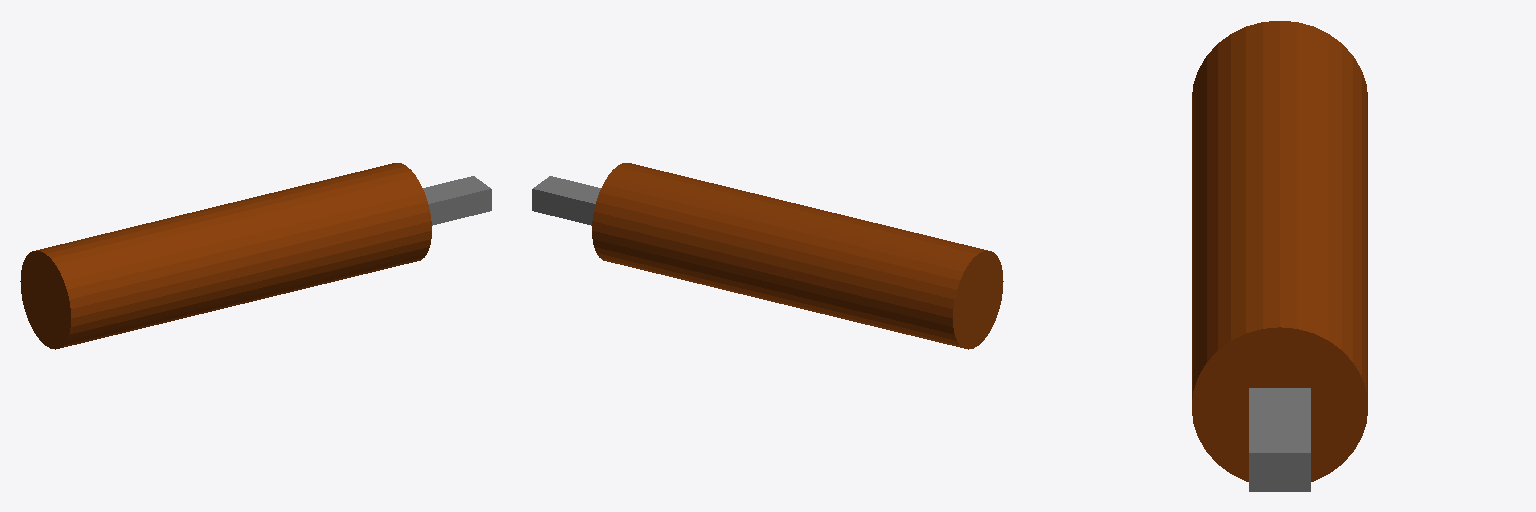
robot.urdf — handle_head:
<?xml version="1.0"?>
<robot name="handle_head">

  <link name="handle_head">
    <!-- Handle -->
    <visual>
              <origin xyz="0 0 0" rpy="0 -1.5707963267948966 0"/>
        <geometry>
          <cylinder length="0.10341905322357897" radius="0.012588234341884507"/>
        </geometry>
        
      <material name="brown">
        <color rgba="0.55 0.27 0.07 1.0"/>
      </material>
    </visual>
    <collision>
              <origin xyz="0 0 0" rpy="0 -1.5707963267948966 0"/>
        <geometry>
          <cylinder length="0.10341905322357897" radius="0.012588234341884507"/>
        </geometry>
        
    </collision>

    <!-- Head -->
    <visual>
              <origin xyz="0.06259357243485 0 0" rpy="0 0 0"/>
        <geometry>
          <box size="0.021768091646121035 0.008824657183194022 0.006115526398965244"/>
        </geometry>
        
      <material name="gray">
        <color rgba="0.5 0.5 0.5 1.0"/>
      </material>
    </visual>
    <collision>
              <origin xyz="0.06259357243485 0 0" rpy="0 0 0"/>
        <geometry>
          <box size="0.021768091646121035 0.008824657183194022 0.006115526398965244"/>
        </geometry>
        
    </collision>

    <inertial>
      <origin xyz="0.0018139238564137824 0 0" rpy="0 0 0"/>
      <mass value="0.022298531425541092"/>
      <inertia ixx="1.6738518685312335e-06" iyy="2.9579542562773486e-05" izz="2.958172212982658e-05" ixy="0" ixz="0" iyz="0"/>
    </inertial>
  </link>

</robot>

--- What the picture shows (computed from the rendered views, not written in the file) ---
The picture shows the robot from 3 angles, left to right: view 1: azimuth 30°, elevation 25°; view 2: azimuth 150°, elevation 25°; view 3: azimuth 270°, elevation 25°; orthographic projection.
Robot: handle_head — 1 links, 0 joints (none); root link handle_head; default pose: every joint at zero.
Links seen in each view (by area): view 1: handle_head; view 2: handle_head; view 3: handle_head.
Link boxes in pixels (x1,y1,x2,y2): handle_head: (20,163,491,349); handle_head: (532,163,1003,349); handle_head: (1192,21,1367,491).
Bounding box of the posed robot: 0.1252 × 0.0252 × 0.0252 m (x, y, z).
Geometry: primitives only (box / cylinder / sphere), no mesh files.
